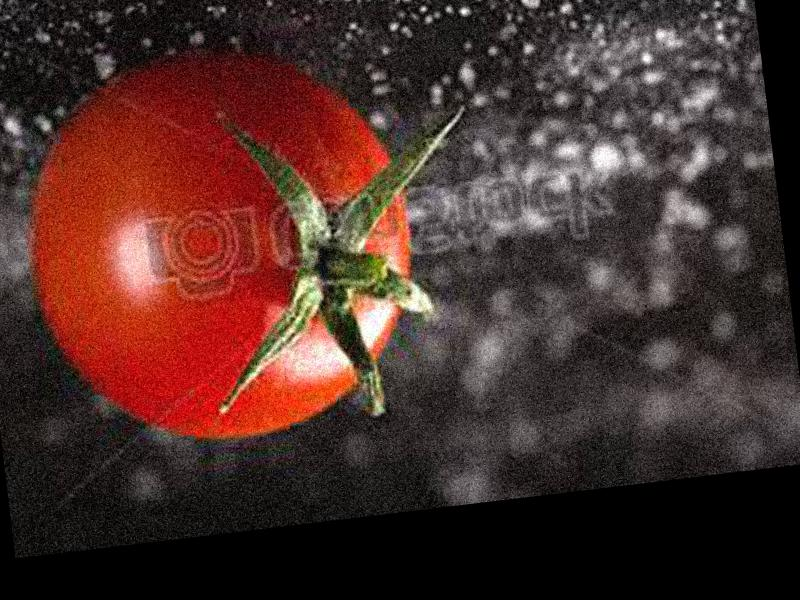Tomato: (10, 33, 432, 460)
